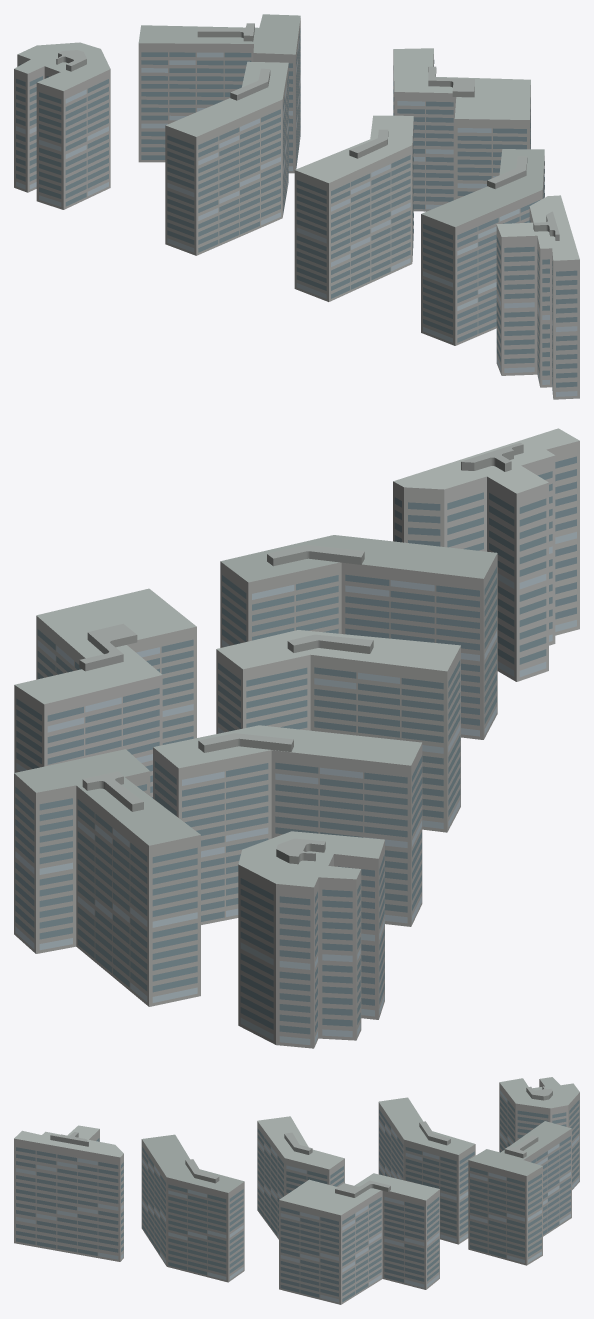
Rendered from apt-a15886512.glb.
3 views of the same model, one above another, from view 1: azimuth 30°, elevation 25°; view 2: azimuth 150°, elevation 25°; view 3: azimuth 270°, elevation 25° (orthographic). The views are drawn at different scales.
Visible parts, largest first — view 1: apt-a15886512; view 2: apt-a15886512; view 3: apt-a15886512.
Boxes of the visible parts, left/top/right/bottom form: apt-a15886512: left=14, top=14, right=579, bottom=399; apt-a15886512: left=14, top=428, right=579, bottom=1048; apt-a15886512: left=14, top=1077, right=579, bottom=1304.
Size of the model in its own units: 130 by 47.81 by 224.
